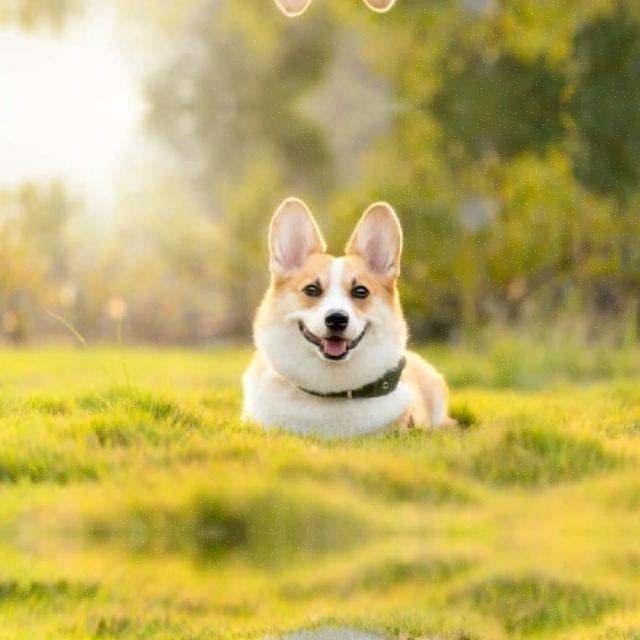dog: (186, 169, 540, 445), (187, 0, 540, 43), (187, 620, 540, 640)
